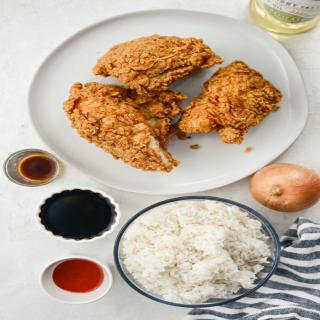carbs: (118, 200, 275, 304)
fried_chicken_rice: (1, 12, 316, 305)
meat: (67, 33, 279, 174)
veg: (251, 165, 320, 210)
